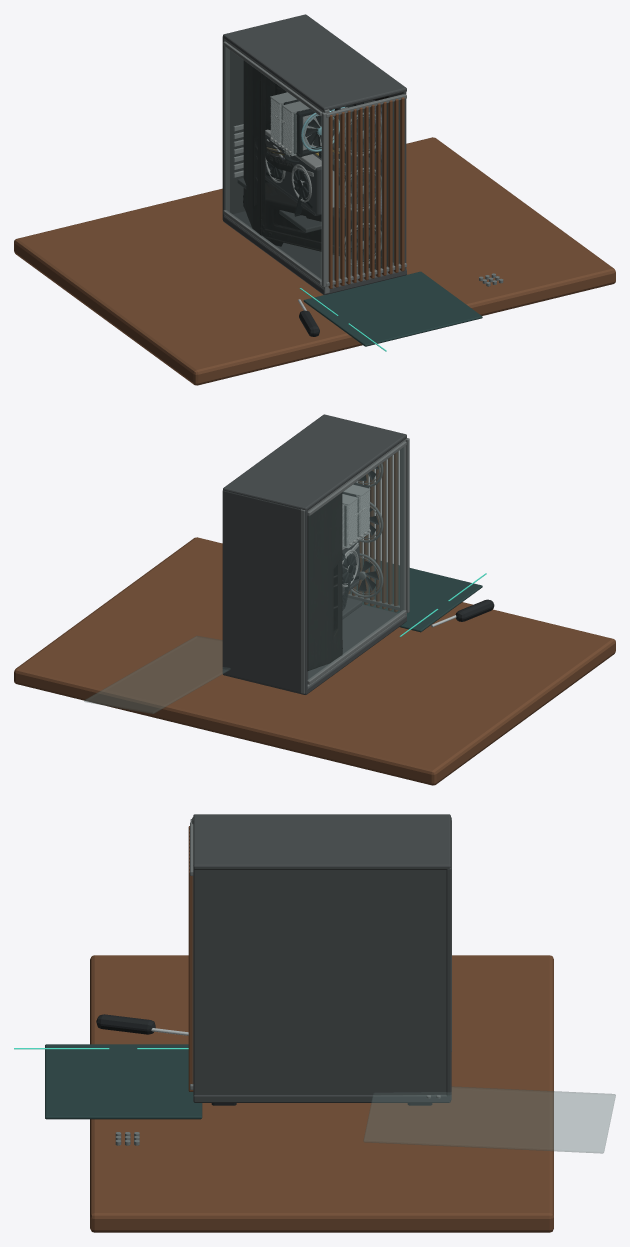
File: pc-lab-mobile.glb
3 views of the same model, one above another, from view 1: azimuth 30°, elevation 25°; view 2: azimuth 150°, elevation 25°; view 3: azimuth 270°, elevation 25° (orthographic). The views are drawn at different scales.
Parts seen in each view (by area): view 1: workbench_top, case_glass_panel_side, case_top, neural4d_case_detail_00, esd_mat, case_glass_panel_front, case_rear, case_bottom, case_far_panel, gpu_shroud_center, case_glass_corner_post, front_wood_slat_01 (+17 smaller); view 2: workbench_top, case_glass_panel_side, case_rear, case_top, neural4d_case_detail_00, tempered_glass_panel, esd_mat, case_bottom, case_glass_panel_front, case_vertical_rail_-2.45, case_vertical_rail_2.45, front_wood_slat_01 (+6 smaller); view 3: workbench_top, case_far_panel, case_top, tempered_glass_panel, esd_mat, case_bottom, case_rear, front_wood_slat_12, driver_handle.
Boxes of the visible parts, x1=… form: workbench_top: x1=14, y1=137, x2=615, y2=385; case_glass_panel_side: x1=225, y1=47, x2=321, y2=279; case_top: x1=223, y1=14, x2=406, y2=111; neural4d_case_detail_00: x1=243, y1=60, x2=388, y2=269; esd_mat: x1=303, y1=271, x2=482, y2=346; case_glass_panel_front: x1=327, y1=100, x2=400, y2=281; case_rear: x1=222, y1=36, x2=245, y2=219; case_bottom: x1=223, y1=211, x2=406, y2=294; case_far_panel: x1=389, y1=90, x2=406, y2=274; gpu_shroud_center: x1=265, y1=134, x2=321, y2=215; case_glass_corner_post: x1=321, y1=112, x2=326, y2=287; front_wood_slat_01: x1=334, y1=113, x2=338, y2=287; workbench_top: x1=14, y1=537, x2=615, y2=785; case_glass_panel_side: x1=308, y1=447, x2=404, y2=679; case_rear: x1=222, y1=490, x2=307, y2=693; case_top: x1=223, y1=414, x2=406, y2=510; neural4d_case_detail_00: x1=307, y1=492, x2=342, y2=670; tempered_glass_panel: x1=84, y1=636, x2=230, y2=713; esd_mat: x1=351, y1=558, x2=482, y2=632; case_bottom: x1=223, y1=605, x2=406, y2=694; case_glass_panel_front: x1=349, y1=451, x2=399, y2=605; case_vertical_rail_-2.45: x1=400, y1=438, x2=406, y2=615; case_vertical_rail_2.45: x1=300, y1=509, x2=304, y2=693; front_wood_slat_01: x1=394, y1=452, x2=398, y2=612; workbench_top: x1=90, y1=955, x2=553, y2=1232; case_far_panel: x1=193, y1=869, x2=446, y2=1094; case_top: x1=193, y1=814, x2=450, y2=869; tempered_glass_panel: x1=363, y1=1086, x2=615, y2=1153; esd_mat: x1=45, y1=1044, x2=202, y2=1119; case_bottom: x1=193, y1=1095, x2=450, y2=1102; case_rear: x1=446, y1=820, x2=451, y2=1100; front_wood_slat_12: x1=188, y1=870, x2=193, y2=1091; driver_handle: x1=96, y1=1014, x2=155, y2=1034.
Size of what is drawn, in the model's own units: 12 by 5.66 by 11.67.
Materials: 27 (1 with a texture image).
